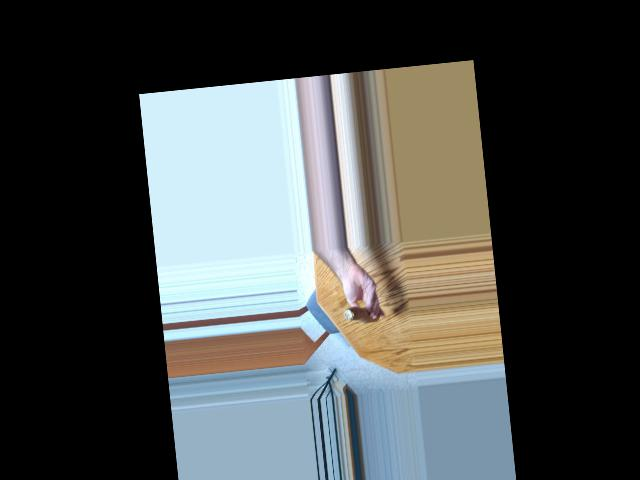sweet_potato: (337, 295, 382, 327)
